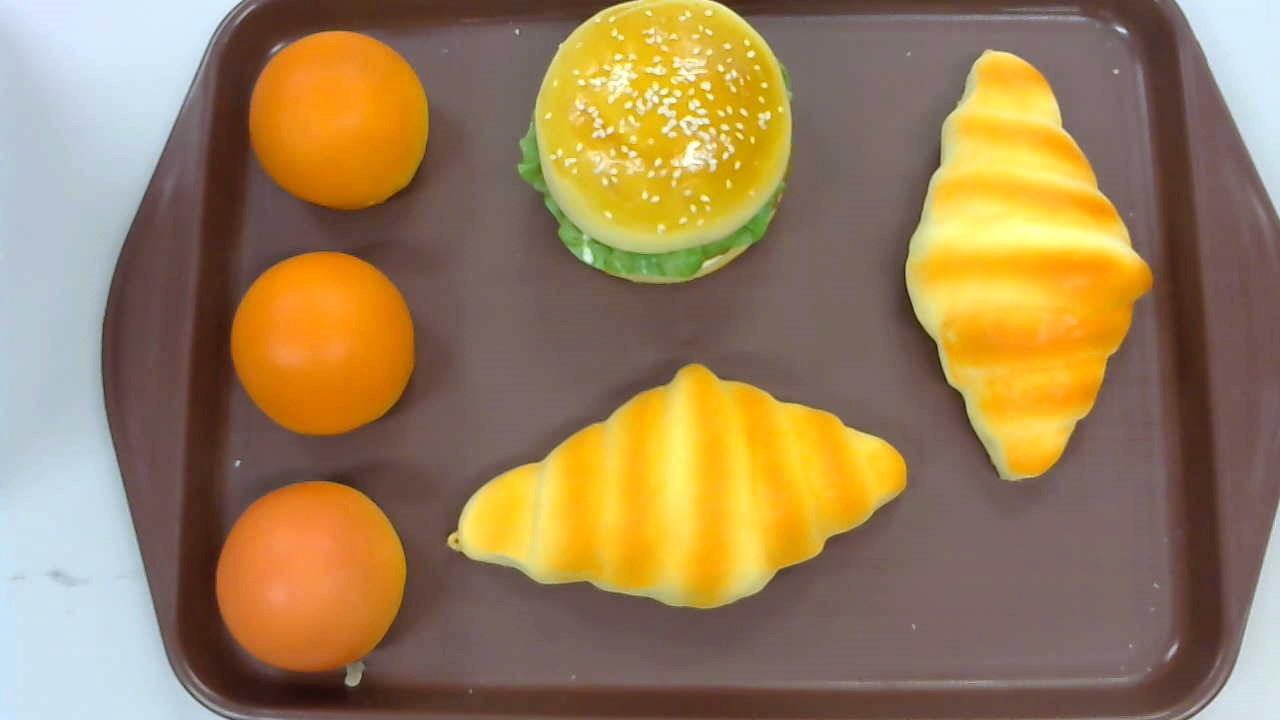bun: (214, 481, 407, 672), (231, 251, 415, 438), (248, 30, 429, 210)
croissant: (448, 363, 907, 609), (905, 49, 1152, 482)
hamburger: (517, 1, 794, 285)
